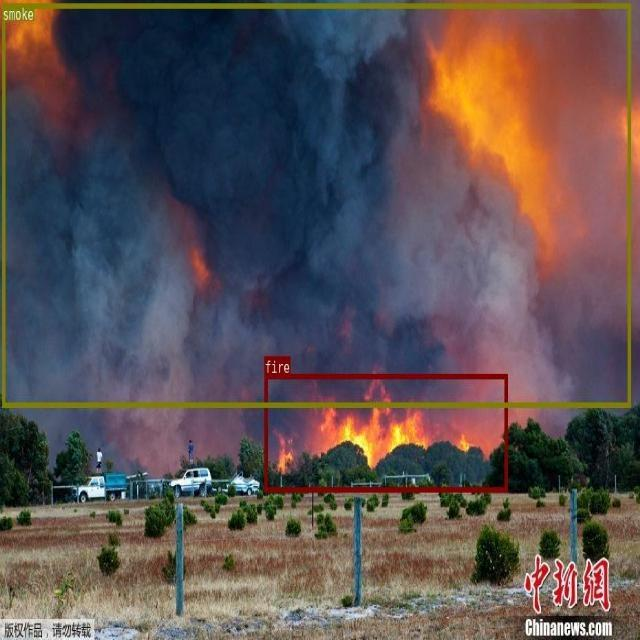fire: (264, 373, 507, 491)
smoke: (2, 3, 630, 407)
